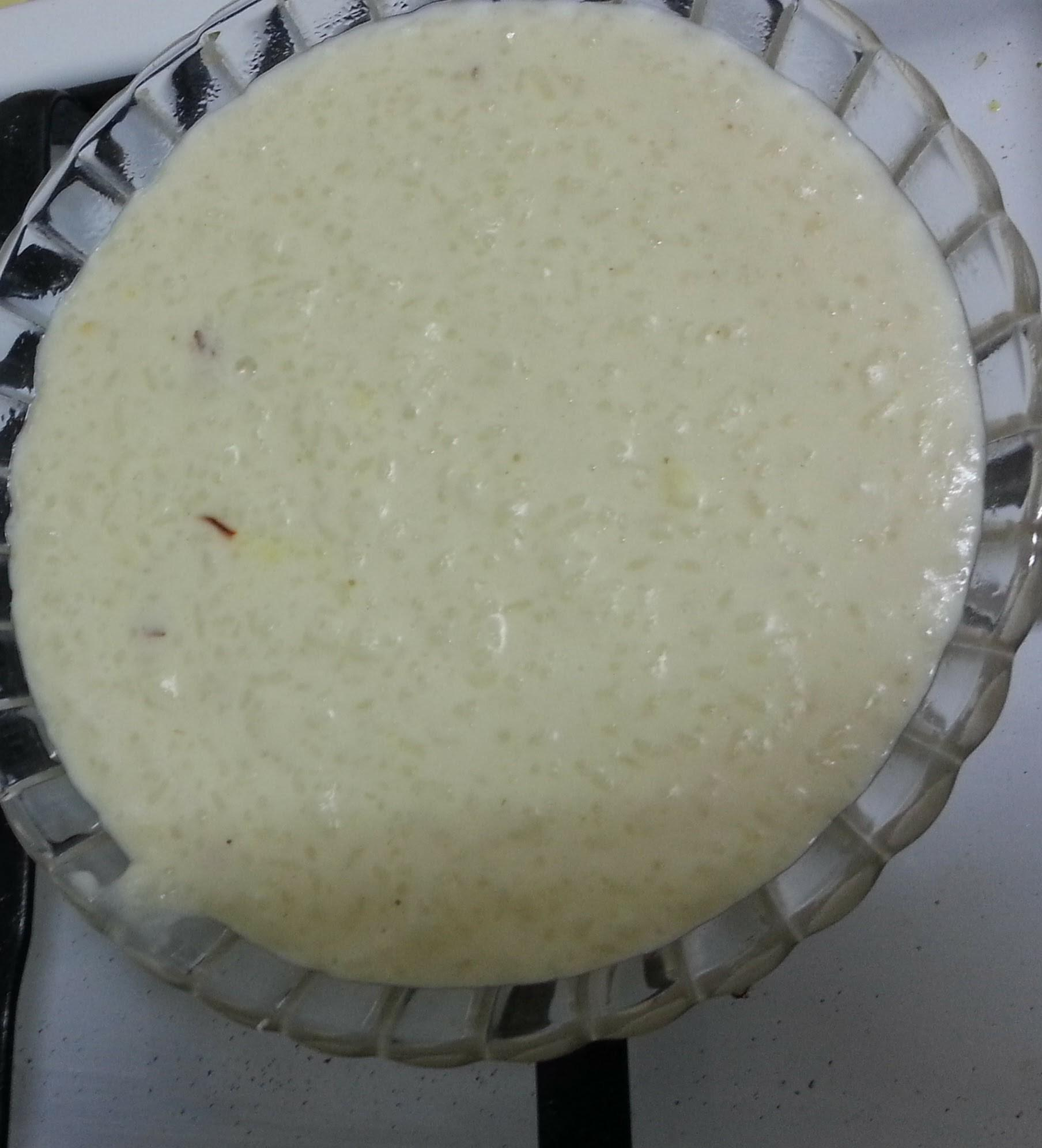Kheer: (10, 0, 973, 966)
